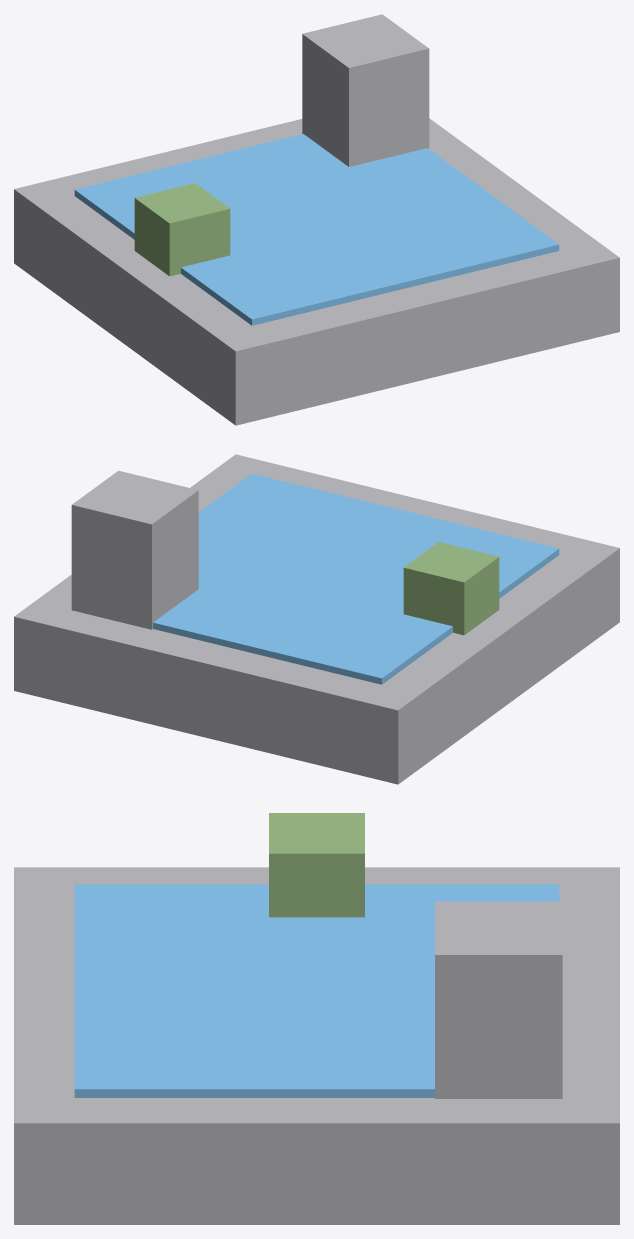
File: Prop_Water_AMF_SpringBasin_V3.glb
3 views of the same model, one above another, from view 1: azimuth 30°, elevation 25°; view 2: azimuth 150°, elevation 25°; view 3: azimuth 270°, elevation 25° (orthographic). The views are drawn at different scales.
Visible parts, largest first — view 1: Prop_Water_AMF_SpringBasin_V3; view 2: Prop_Water_AMF_SpringBasin_V3; view 3: Prop_Water_AMF_SpringBasin_V3.
Boxes of the visible parts, bbox=[...] form: Prop_Water_AMF_SpringBasin_V3: bbox=[14, 14, 619, 425]; Prop_Water_AMF_SpringBasin_V3: bbox=[14, 454, 619, 784]; Prop_Water_AMF_SpringBasin_V3: bbox=[14, 813, 619, 1224].
Bounding box in the file's own units: 1.9 × 0.8472 × 1.9.
